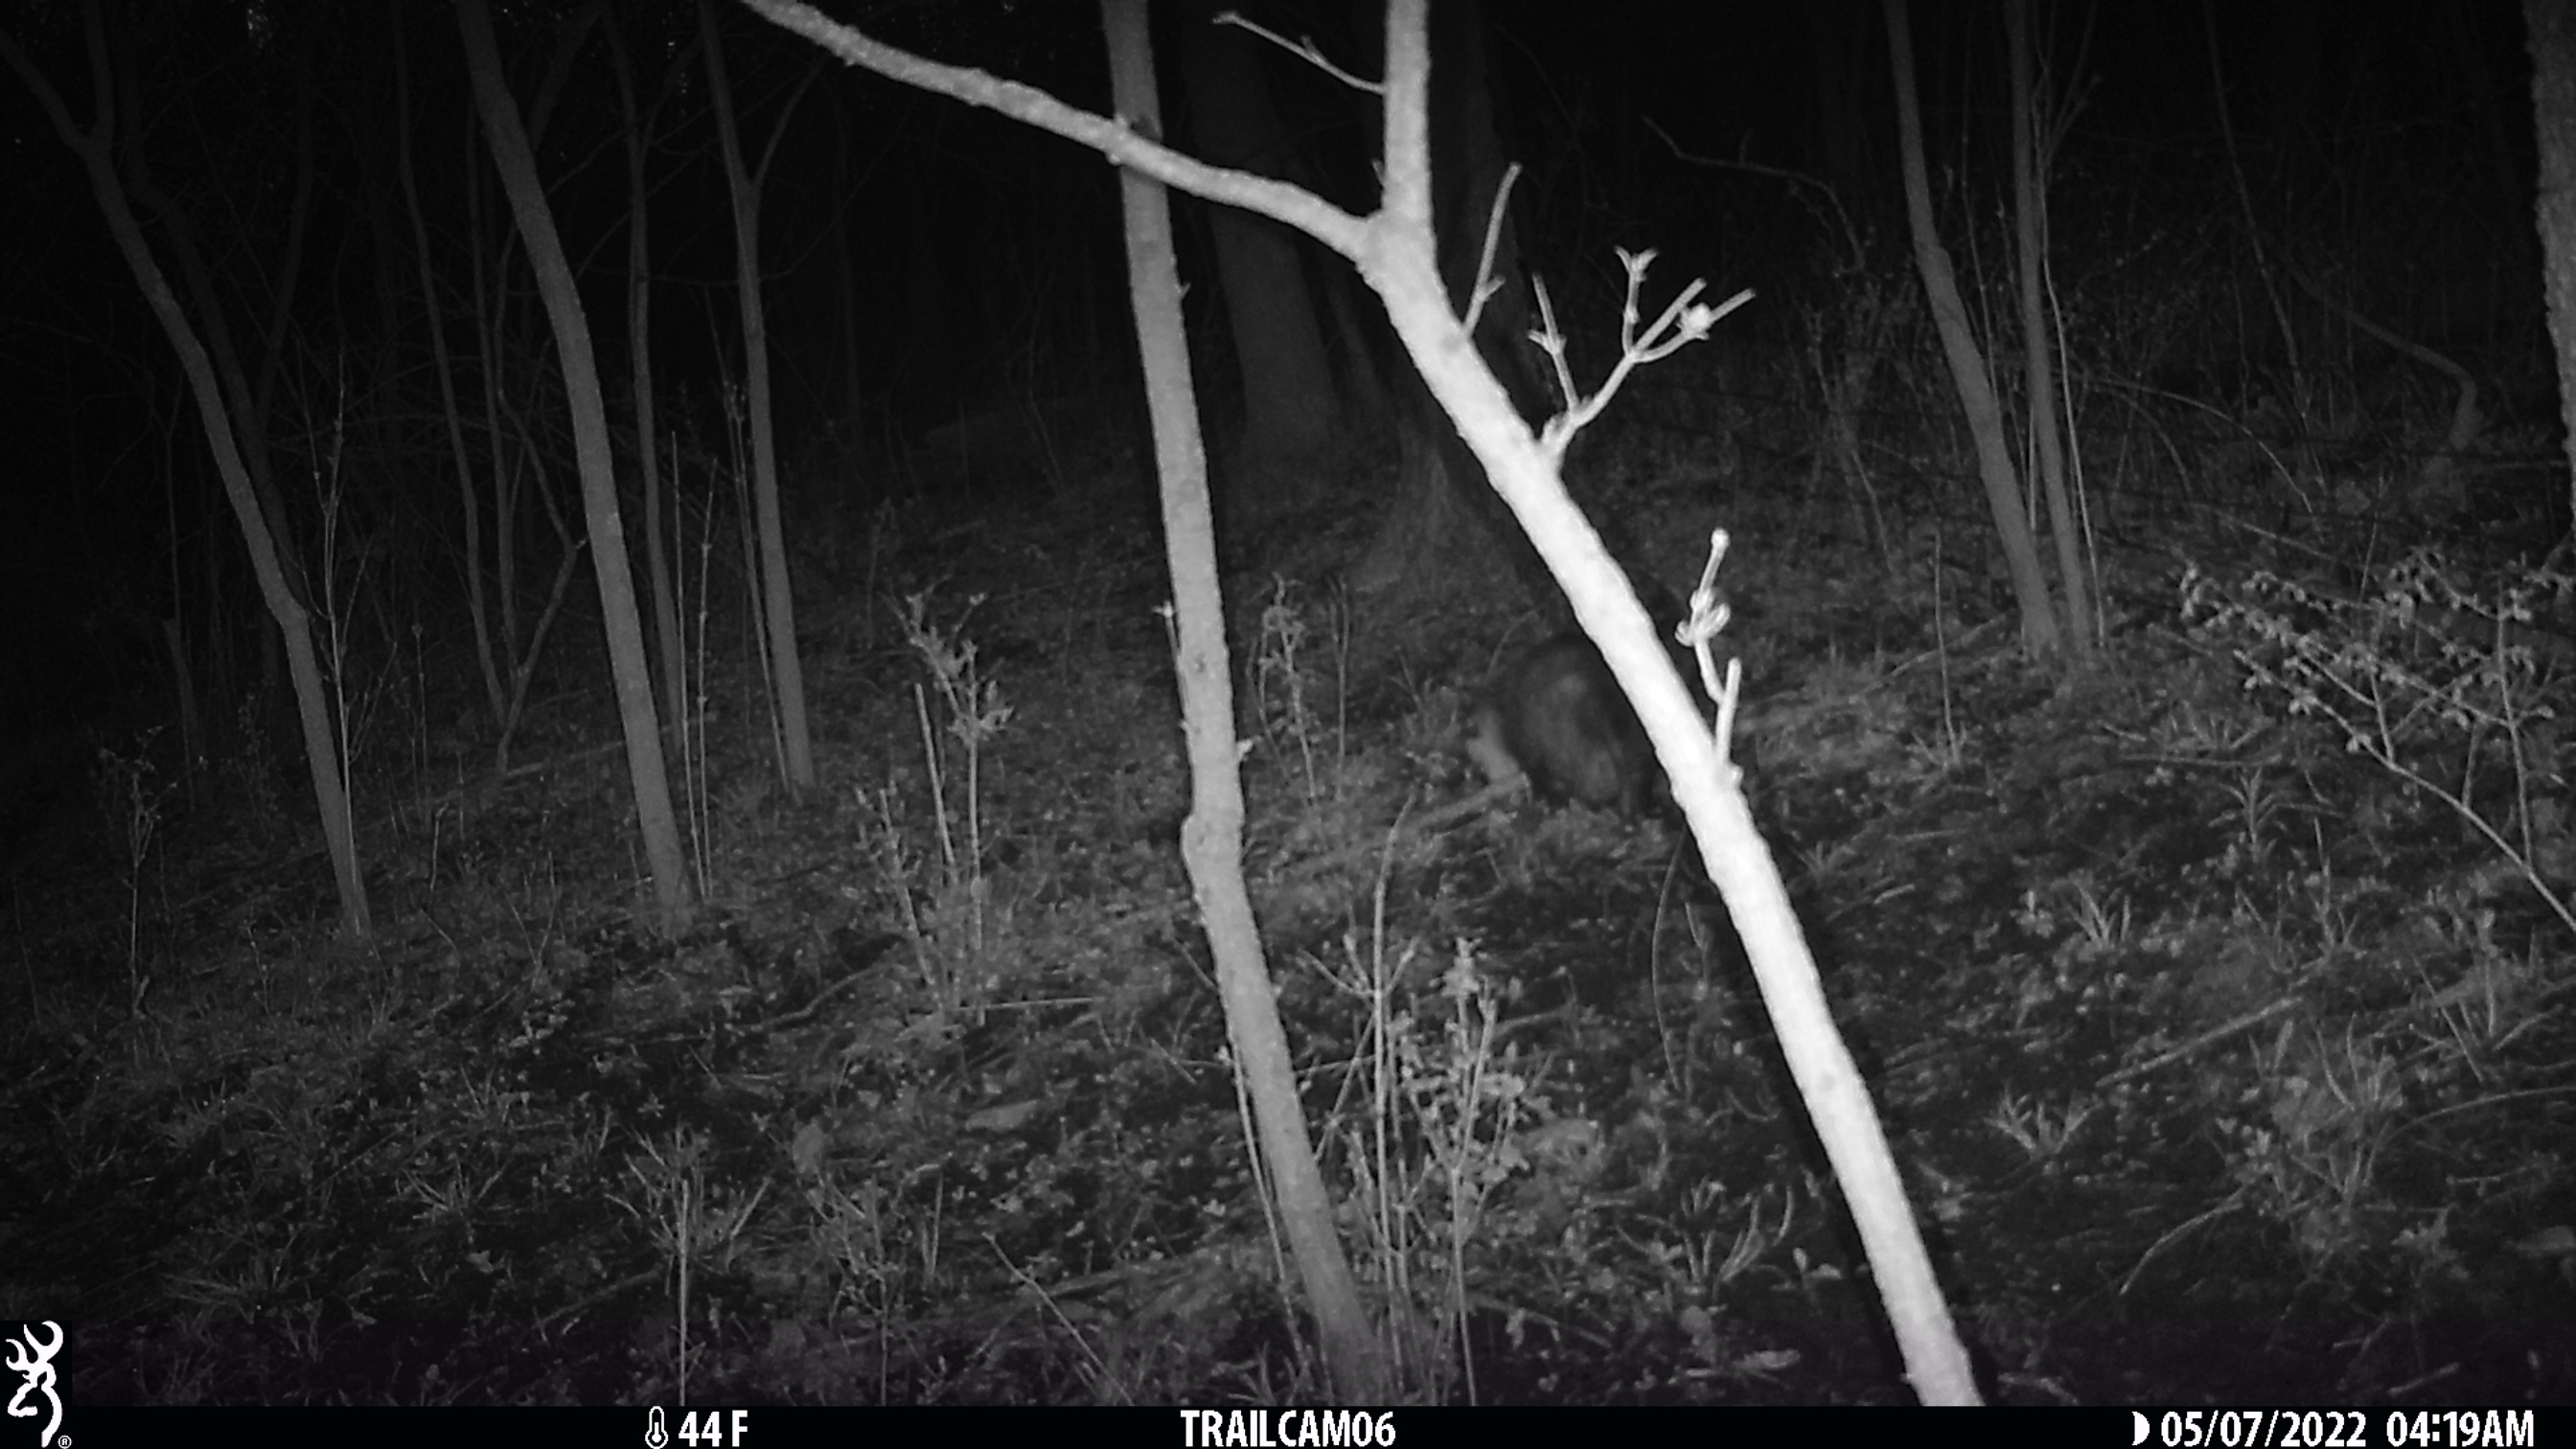Possum: (1449, 623, 1661, 823)
